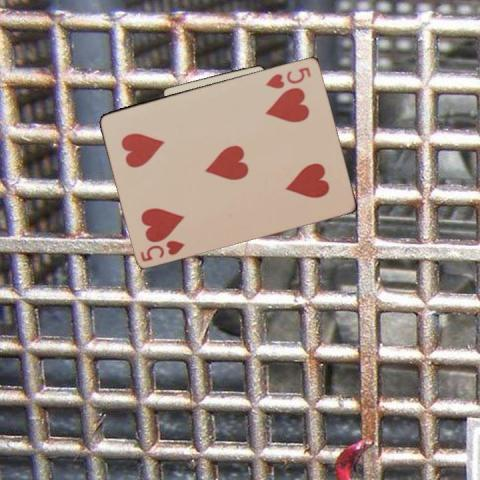5h: (262, 63, 313, 90), (137, 236, 187, 262)
